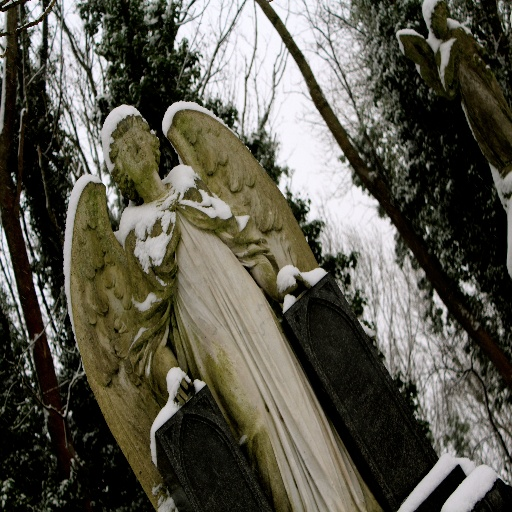hand: (168, 372, 195, 408), (278, 274, 312, 302)
